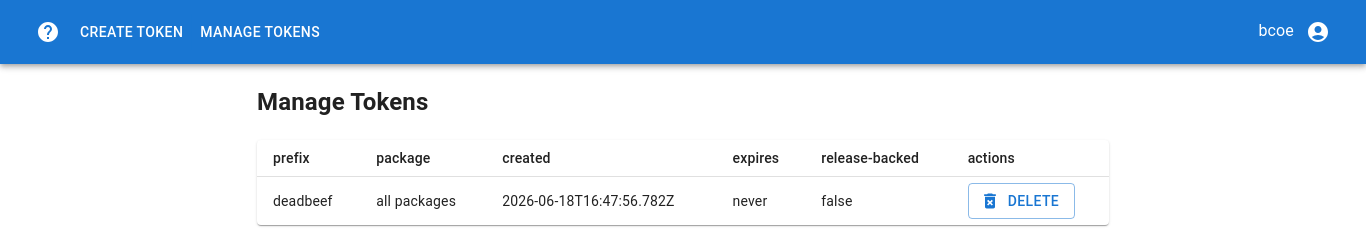
allows a token to be deleted
The width and height of the screenshot is (1366, 244).
Expected: the column heading "deadbeef" is shown, x1=257 y1=176 x2=360 y2=225
Click the button "Delete" at (1021, 201), box x1=968 y1=183 x2=1075 y2=219
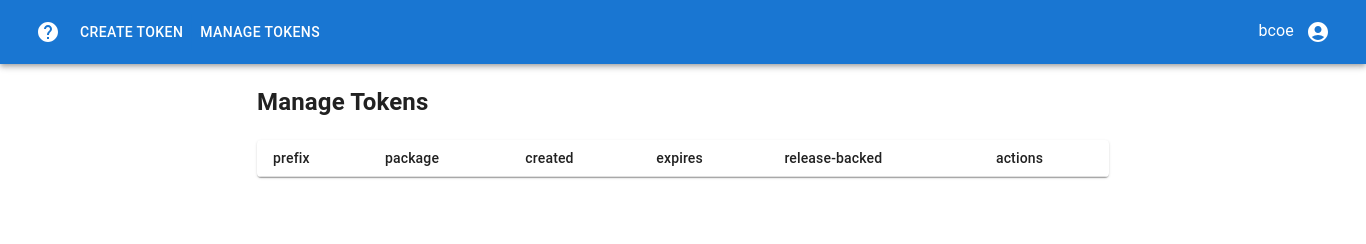
Expected: the button "Delete" is gone
